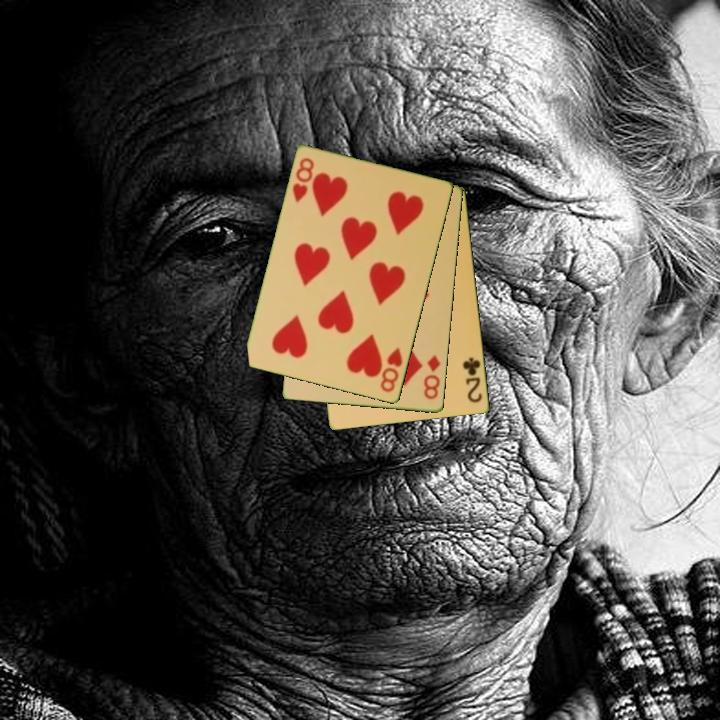2c: (459, 354, 486, 406)
8d: (420, 352, 444, 403)
8h: (377, 344, 406, 395), (289, 154, 317, 205)
